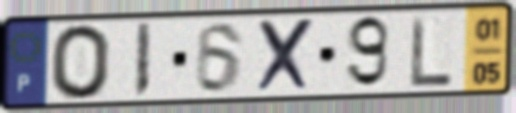6: (192, 21, 247, 95)
9: (341, 14, 392, 92)
I: (131, 20, 154, 100)
L: (409, 13, 455, 90)
O: (48, 22, 114, 103)
X: (254, 16, 318, 96)
